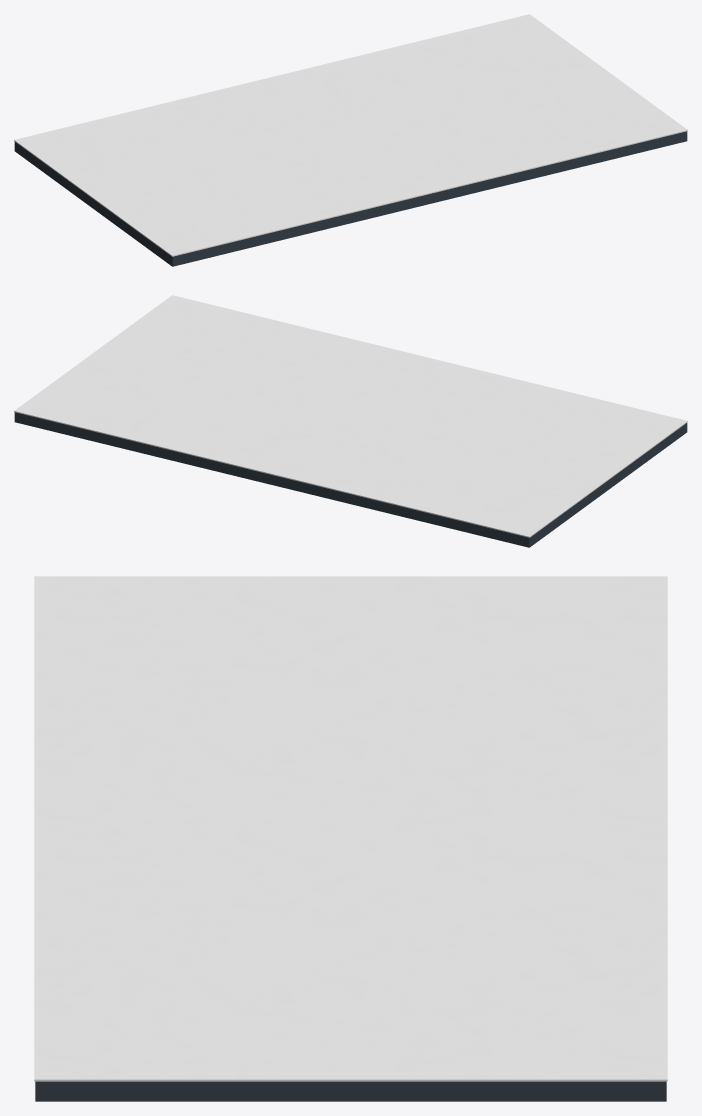
The model's file is 05_wall_TV_frameless_destructible.glb.
3 views of the same model, one above another, from view 1: azimuth 30°, elevation 25°; view 2: azimuth 150°, elevation 25°; view 3: azimuth 270°, elevation 25° (orthographic). The views are drawn at different scales.
Parts seen in each view (by area): view 1: TV_Intact; view 2: TV_Intact; view 3: TV_Intact.
Part boxes in pixels (x1,y1,x2,y2): TV_Intact: [14, 14, 687, 266]; TV_Intact: [14, 295, 687, 547]; TV_Intact: [34, 576, 667, 1101].
Bounding box in the file's own units: 1.05 × 0.0369 × 0.5576.
2 materials, 2 textured.
